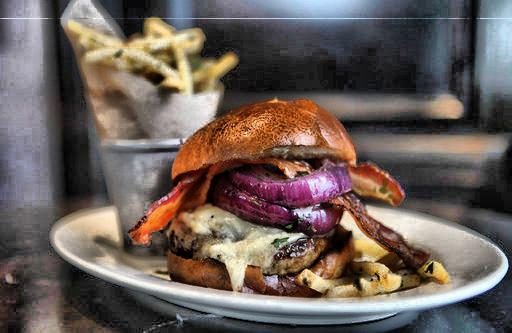burger: (144, 86, 394, 301)
